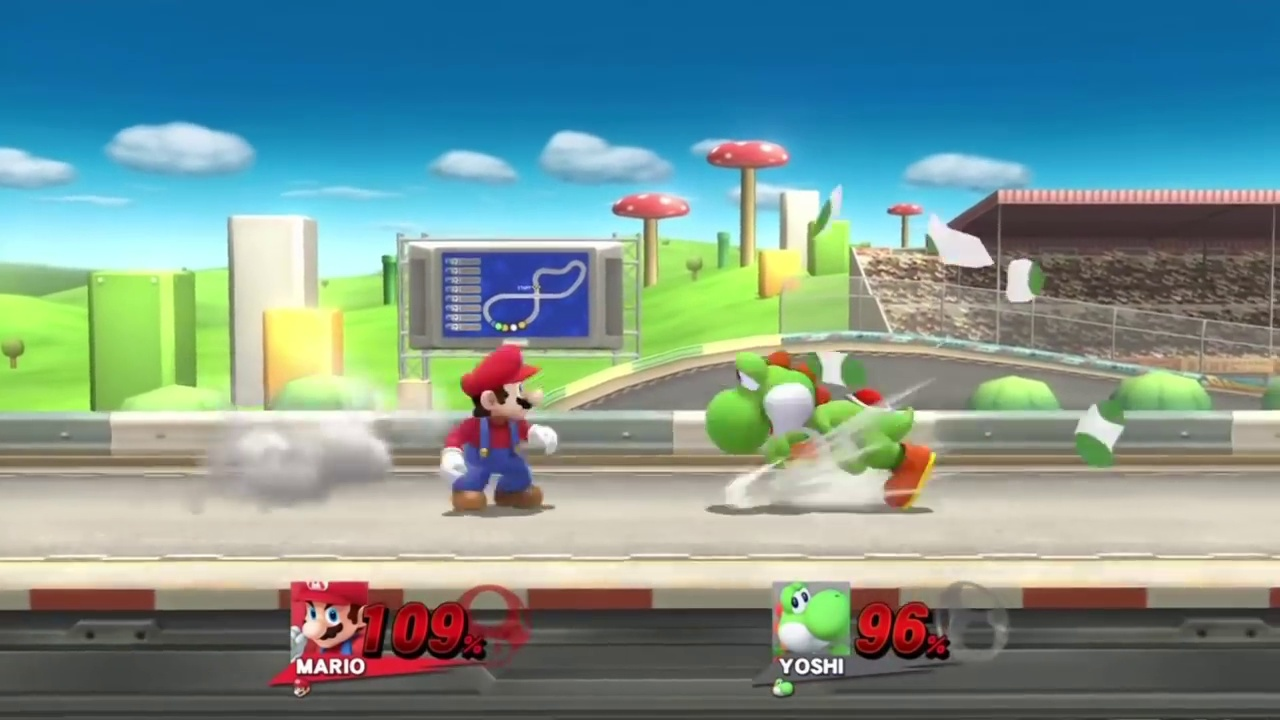Mario: (439, 345, 558, 511)
